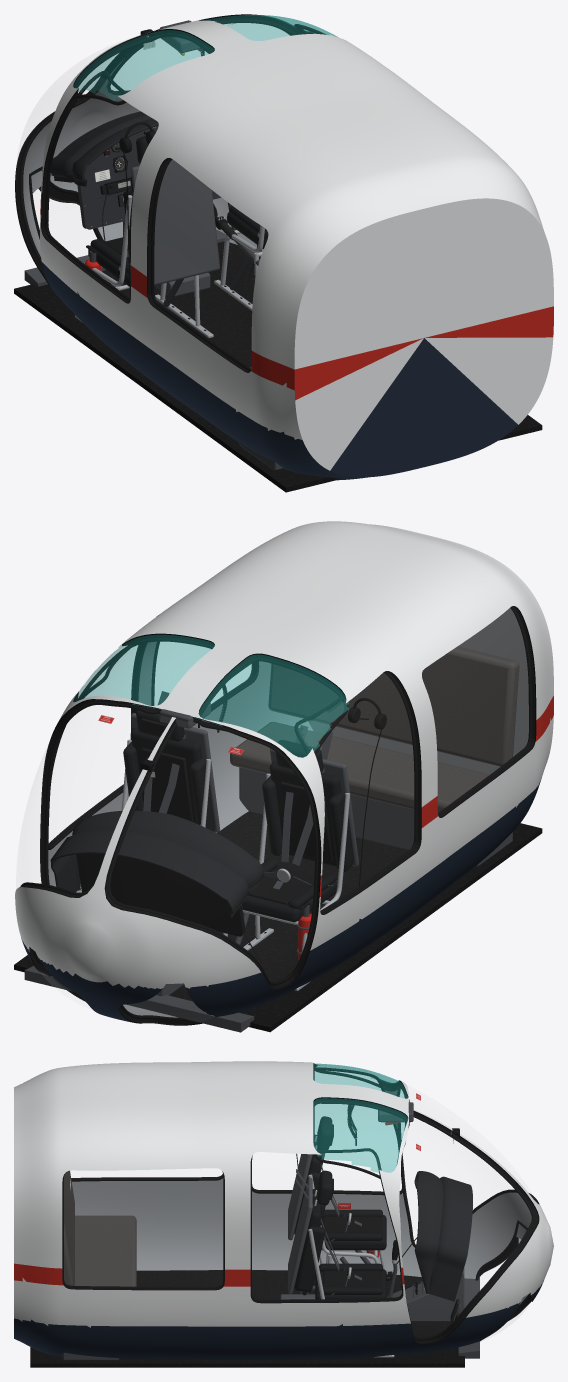
Rendered from cockpit.glb.
3 views of the same model, one above another, from view 1: azimuth 30°, elevation 25°; view 2: azimuth 150°, elevation 25°; view 3: azimuth 270°, elevation 25° (orthographic). The views are drawn at different scales.
Parts seen in each view (by area): view 1: cockpit_static, glass_roof_L, seat_pilot, glass_roof_R; view 2: cockpit_static, glass_roof_L, seat_pilot, glass_roof_R; view 3: cockpit_static, seat_pilot, glass_roof_R, glass_roof_L.
Part boxes in pixels (bbox=[...]): cockpit_static: bbox=[14, 14, 553, 492]; glass_roof_L: bbox=[73, 30, 214, 100]; seat_pilot: bbox=[214, 206, 268, 310]; glass_roof_R: bbox=[204, 15, 338, 40]; cockpit_static: bbox=[14, 521, 553, 1032]; glass_roof_L: bbox=[193, 654, 348, 757]; seat_pilot: bbox=[121, 691, 220, 832]; glass_roof_R: bbox=[74, 635, 214, 709]; cockpit_static: bbox=[14, 1061, 553, 1367]; seat_pilot: bbox=[288, 1169, 394, 1357]; glass_roof_R: bbox=[313, 1098, 408, 1172]; glass_roof_L: bbox=[313, 1063, 407, 1098].
Bounding box in the file's own units: 1.88 × 1.91 × 3.79.
Materials: 37 (8 with a texture image).
